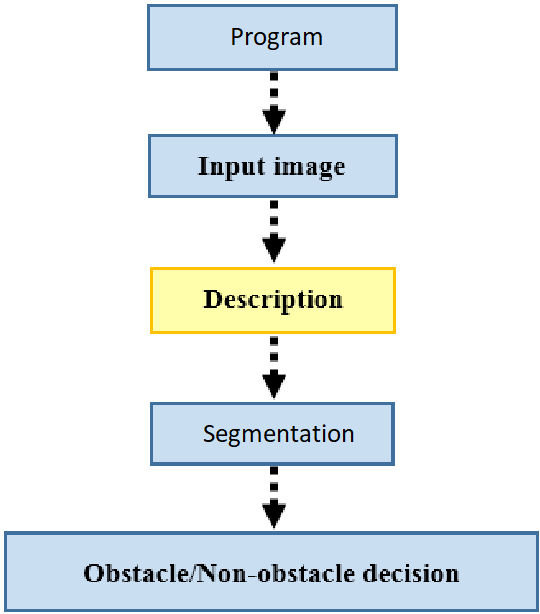arrow: (260, 195, 290, 265), (261, 67, 289, 136), (260, 462, 286, 530), (262, 333, 288, 400)
process: (3, 529, 540, 613), (147, 263, 399, 337), (144, 1, 402, 73), (145, 130, 400, 201), (146, 399, 400, 468)
text: (80, 560, 461, 585), (202, 285, 345, 318), (198, 153, 350, 183), (203, 422, 356, 450), (228, 23, 326, 54)
